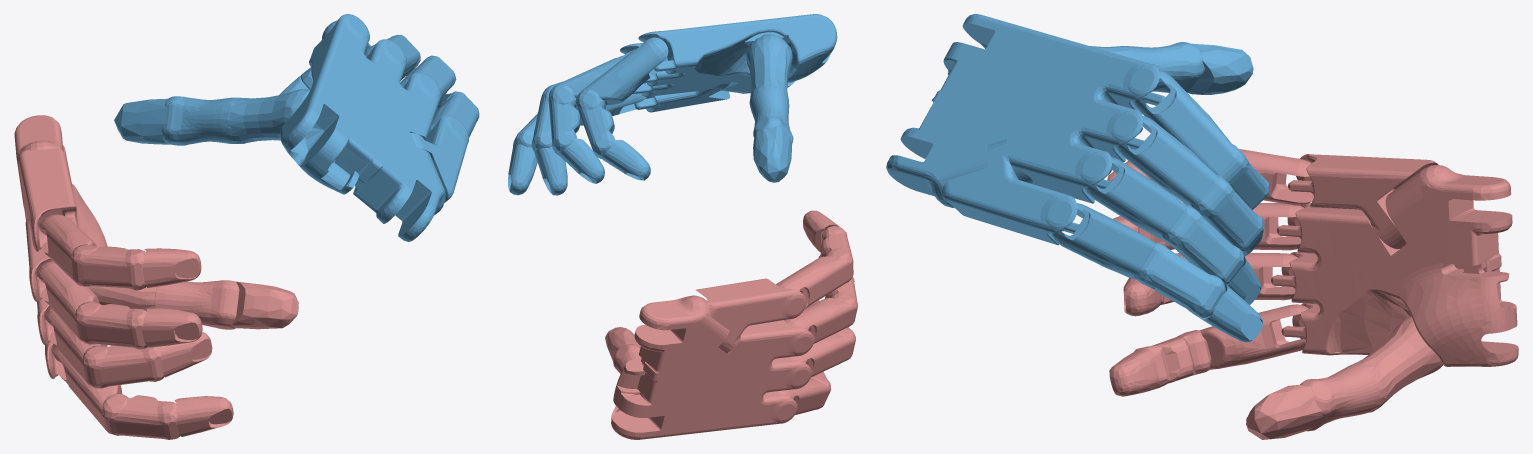
Rendered from Plate_pc.glb.
The picture shows the model from 3 angles, left to right: view 1: azimuth 30°, elevation 25°; view 2: azimuth 150°, elevation 25°; view 3: azimuth 270°, elevation 25°; orthographic projection. The views are drawn at different scales.
Visible parts, largest first — view 1: geom_2, geom_1; view 2: geom_2, geom_1; view 3: geom_1, geom_2.
Part boxes in pixels (x1,y1,x2,y2): geom_2: (14,115,298,439); geom_1: (114,14,479,241); geom_2: (605,210,857,439); geom_1: (508,14,837,195); geom_1: (886,14,1270,342); geom_2: (1107,149,1518,439).
Bounding box in the file's own units: 0.2155 × 0.1972 × 0.2691.
